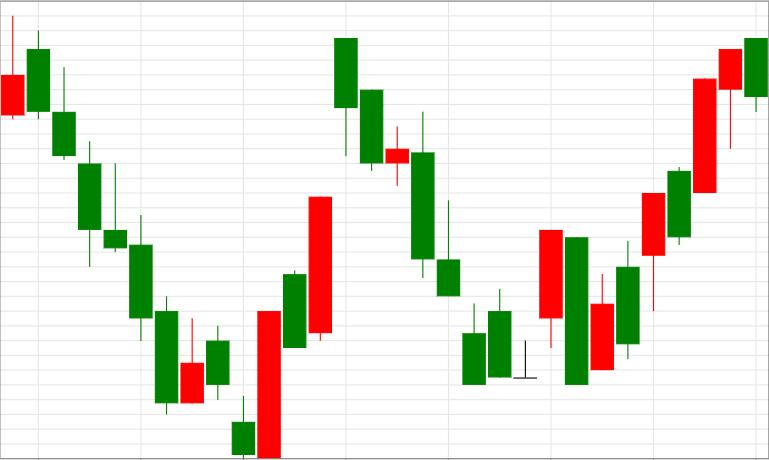bullish_engulfing_rise: (27, 30, 281, 458)
hanging_man_fall: (591, 49, 742, 370)
morning_star_rise: (334, 38, 562, 385)
